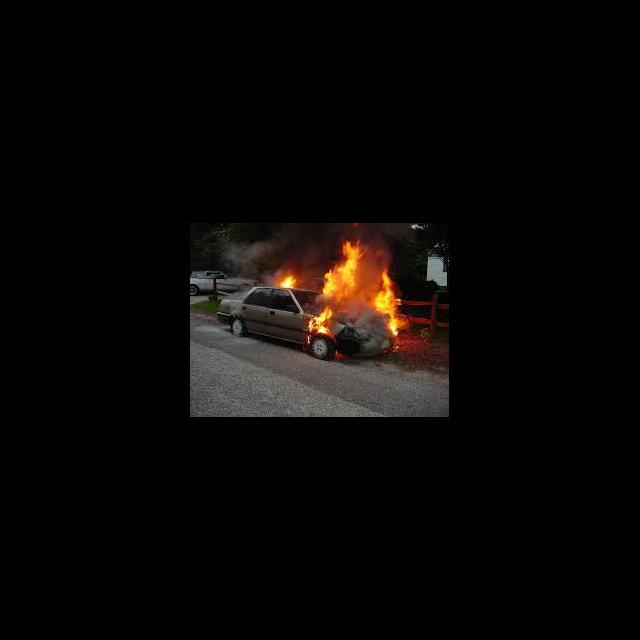Fire: (324, 233, 403, 336), (304, 308, 332, 346), (271, 272, 295, 288)
Smoke: (262, 223, 322, 270)
